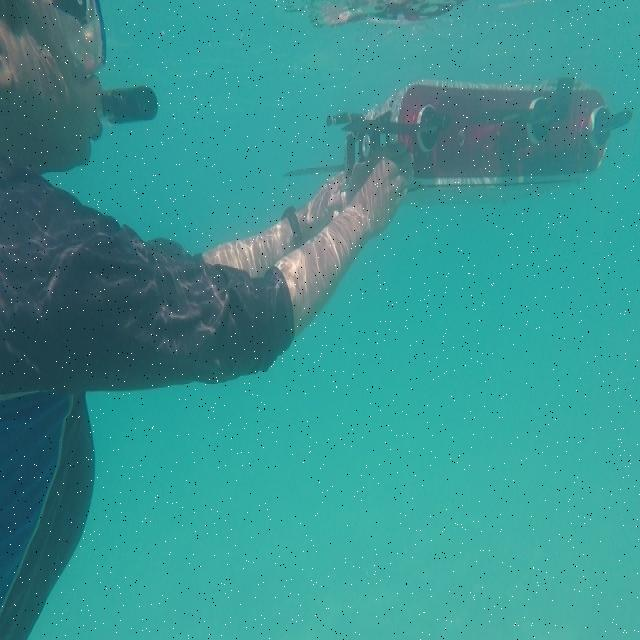robots: (282, 75, 632, 190)
